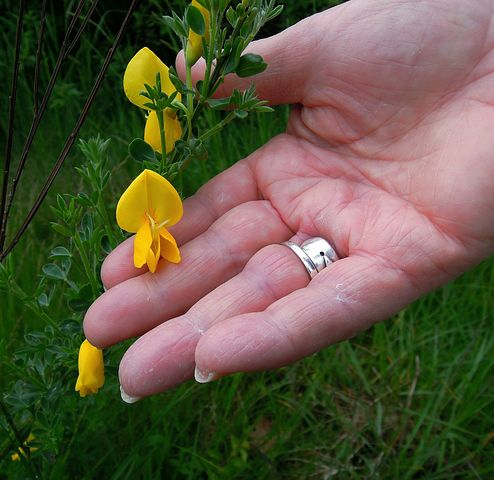palmhand: (82, 1, 494, 401)
